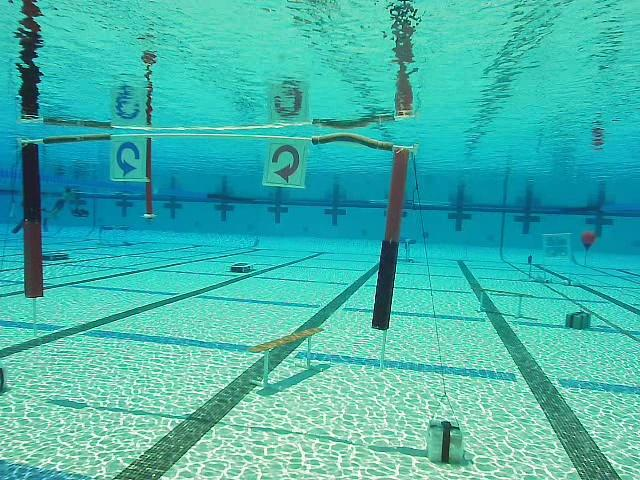buoy: (582, 231, 597, 251)
dropper: (226, 258, 254, 274), (40, 251, 67, 262)
gate: (18, 132, 414, 332)
gate_blue: (111, 137, 149, 181)
gate_leg_l: (17, 138, 46, 299)
gate_leg_r: (371, 143, 415, 331)
gate_red: (264, 140, 308, 187)
torpedo: (544, 232, 571, 259)
